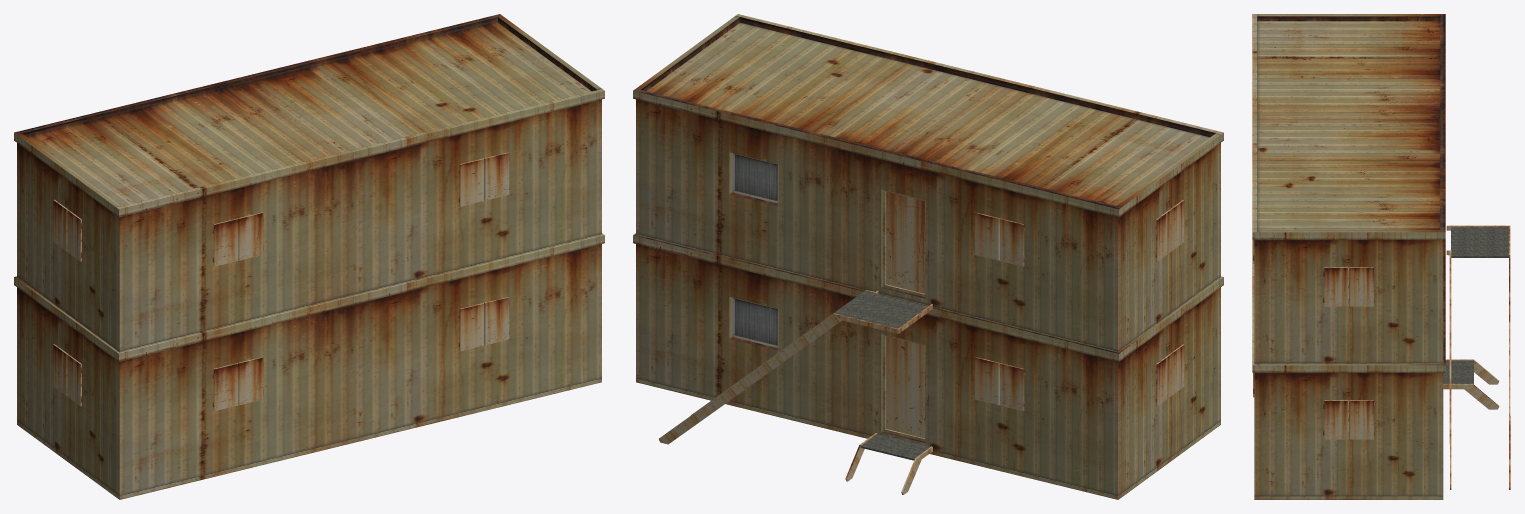
File: container_2_lod1.FBX
3 views of the same model, side by side, from view 1: azimuth 30°, elevation 25°; view 2: azimuth 150°, elevation 25°; view 3: azimuth 270°, elevation 25° (orthographic). The views are drawn at different scales.
Parts seen in each view (by area): view 1: Mesh Object; view 2: Mesh Object; view 3: Mesh Object.
Boxes of the visible parts, <box> form: Mesh Object: <box>14,14,604,499</box>; Mesh Object: <box>633,14,1223,499</box>; Mesh Object: <box>1252,14,1510,499</box>.
Size of the model in its own units: 10.88 by 6.65 by 5.44.
